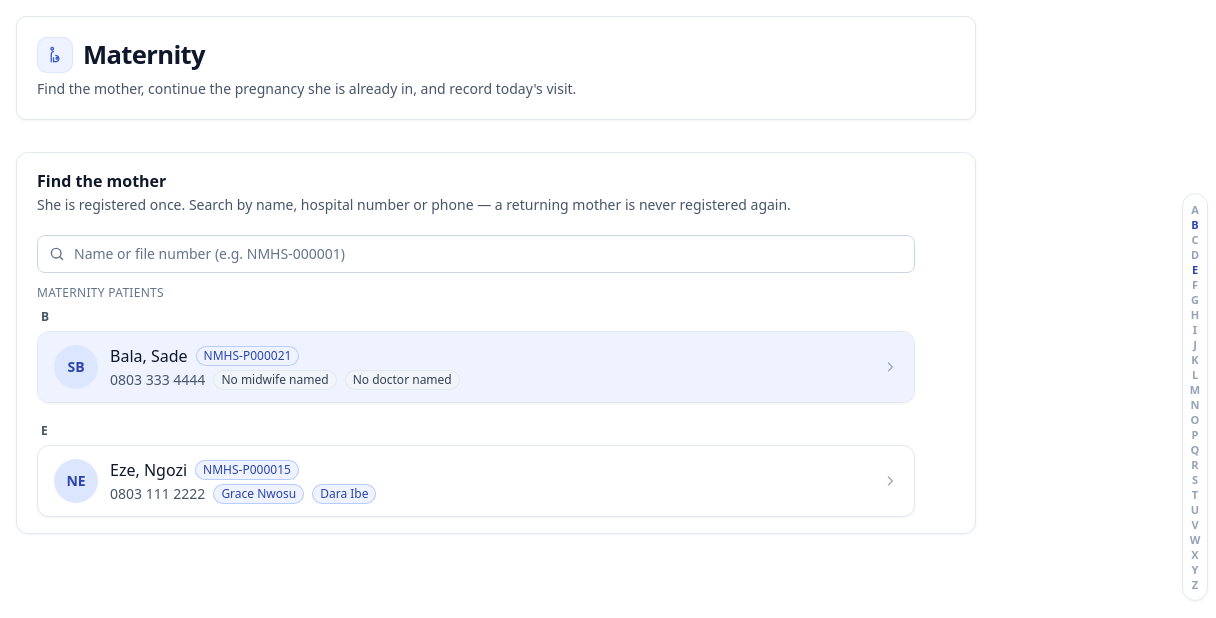
Test: the search box itself › clears itself back to the whole ward
Type "Bala" into the dropdown named "Search maternity patients" at (476, 254), box [37,235,915,273]
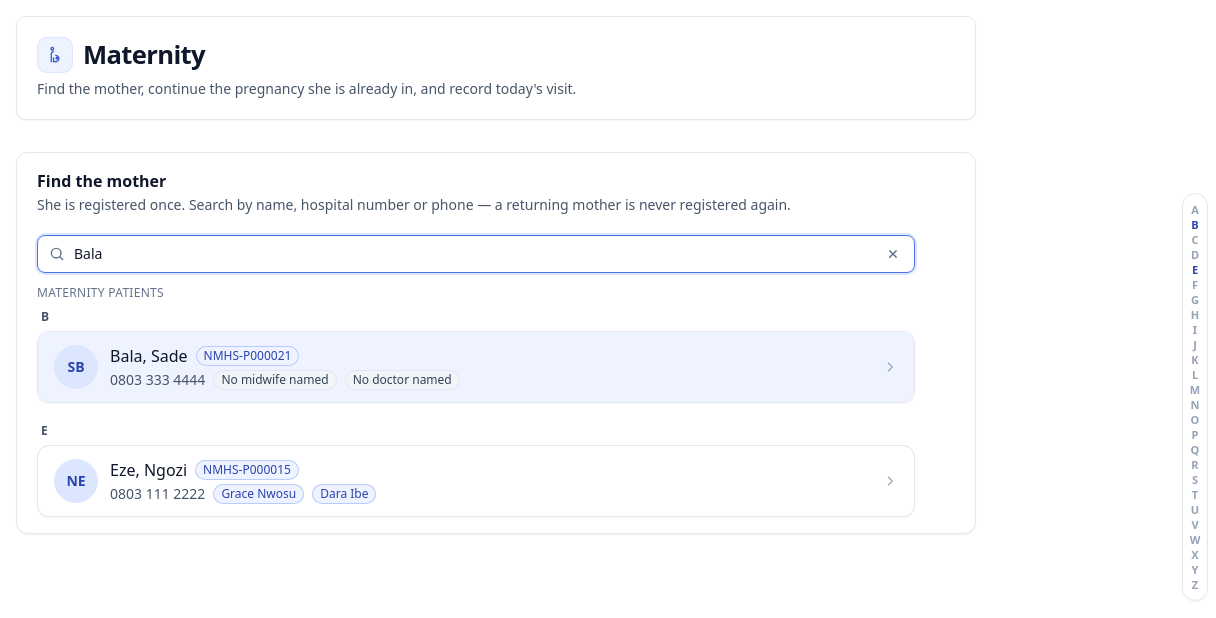
Click the button named "Clear search" at (893, 254), box [877,238,909,270]
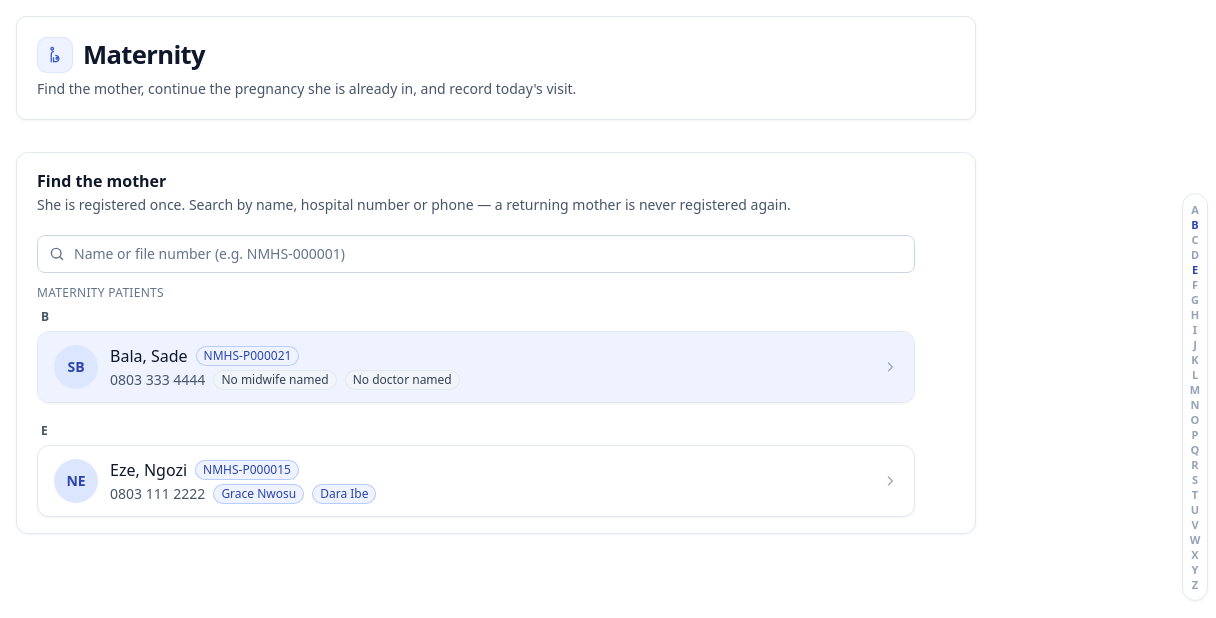
Check: the option "Eze, Ngozi" is shown, box [38,446,914,516]
Check: the dropdown named "Search maternity patients" is empty, box [37,235,915,273]
